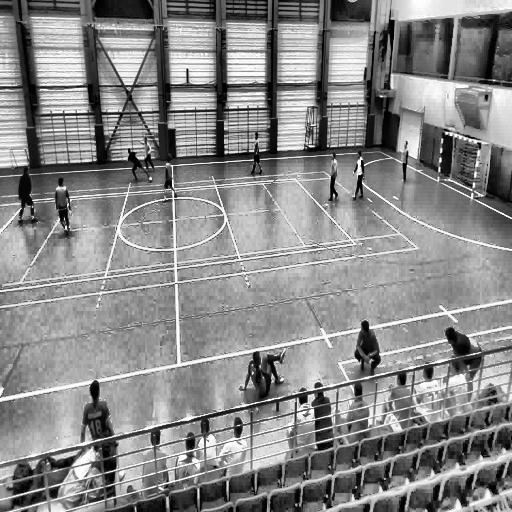ball: (148, 176, 154, 185)
player: (16, 165, 37, 225), (54, 176, 72, 235), (126, 148, 148, 184), (352, 148, 365, 202), (249, 130, 263, 176), (163, 156, 176, 201), (141, 135, 156, 174), (328, 151, 338, 201), (400, 139, 410, 184)
